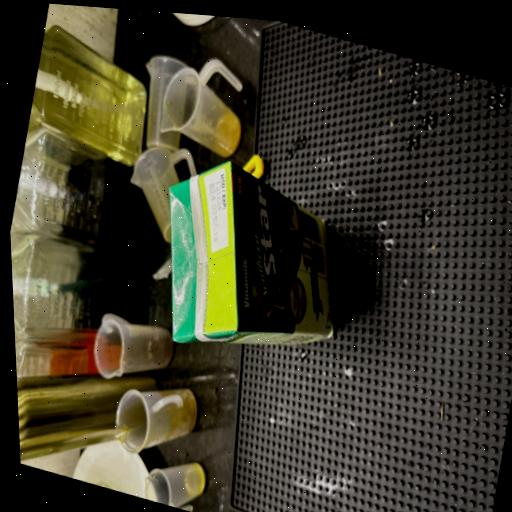sua_dac: (170, 161, 332, 344)
